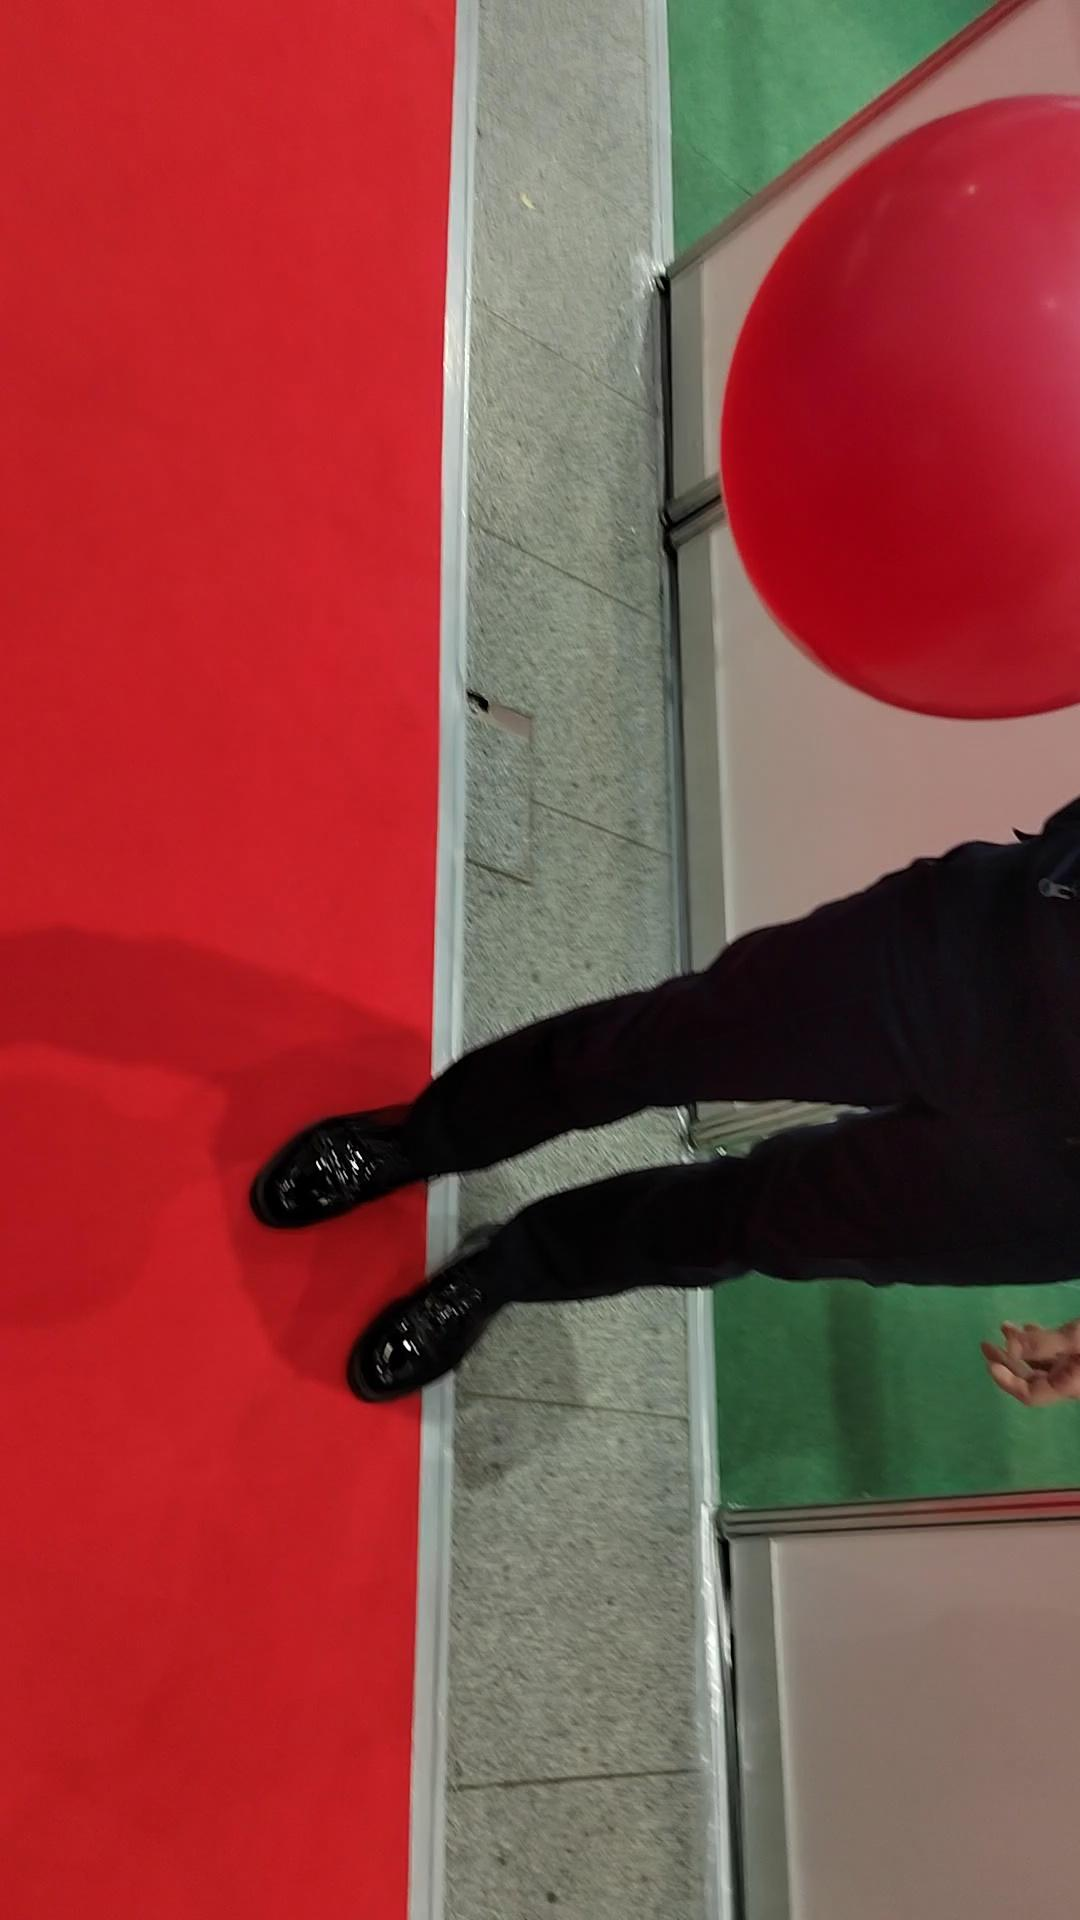red: (707, 84, 1080, 731)
